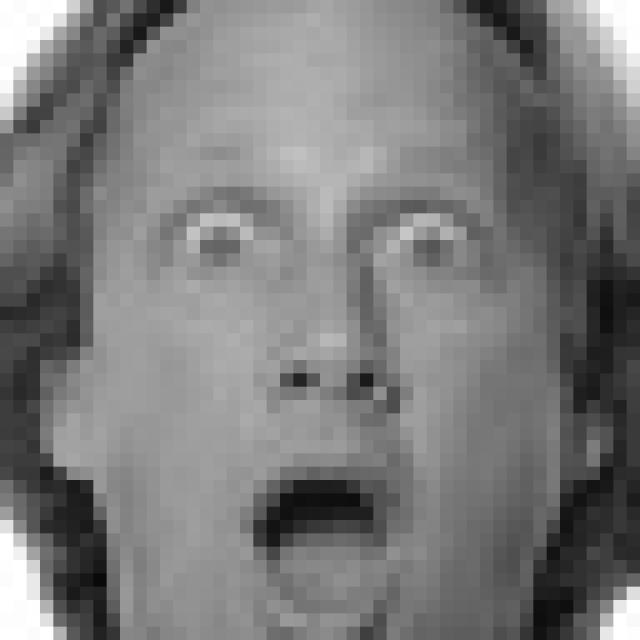surprise: (140, 154, 530, 640)
